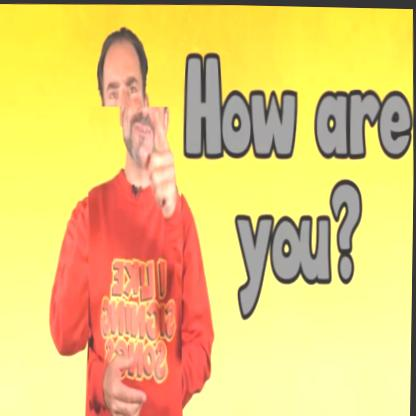HowAreYou: (84, 104, 187, 416)
